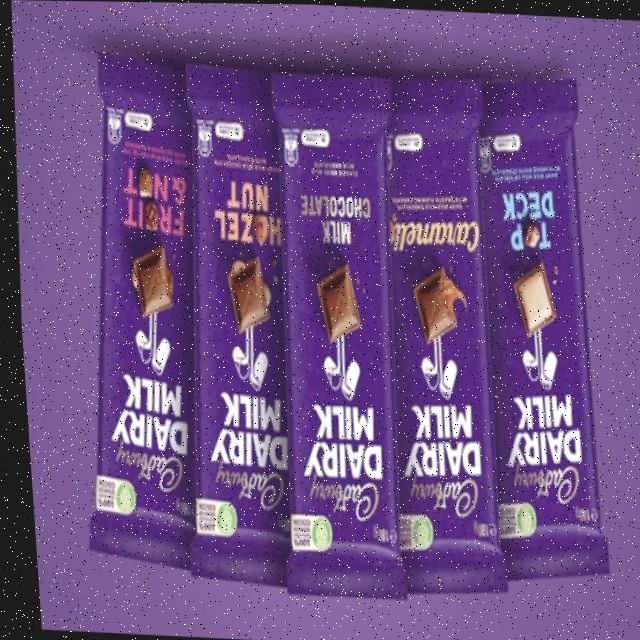cadbury: (253, 71, 412, 601), (56, 50, 209, 576), (361, 74, 510, 603), (160, 64, 305, 587), (459, 75, 603, 584)
